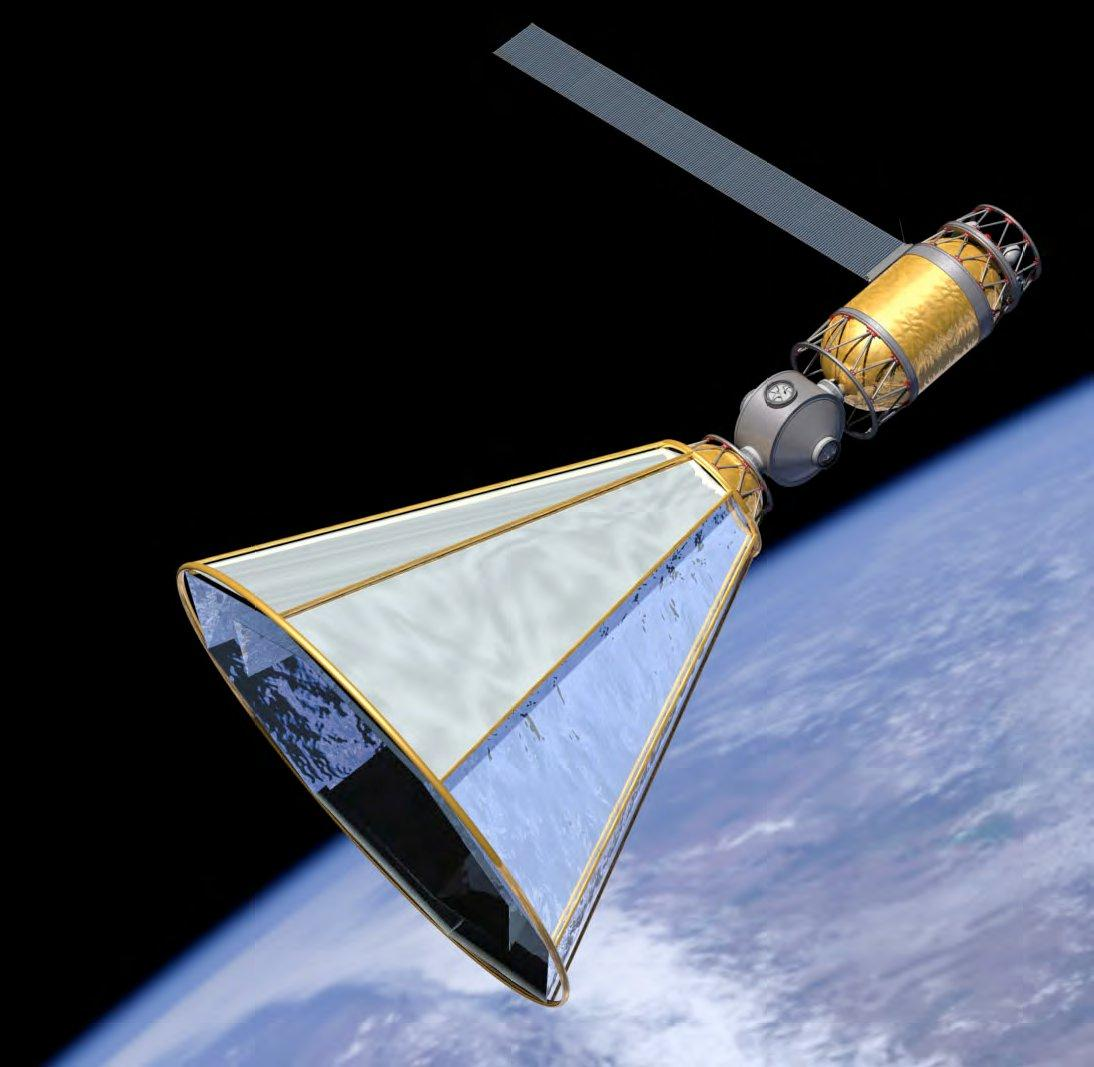body: (731, 198, 1046, 489)
solar: (490, 19, 909, 283)
thruster: (132, 413, 788, 1014)
